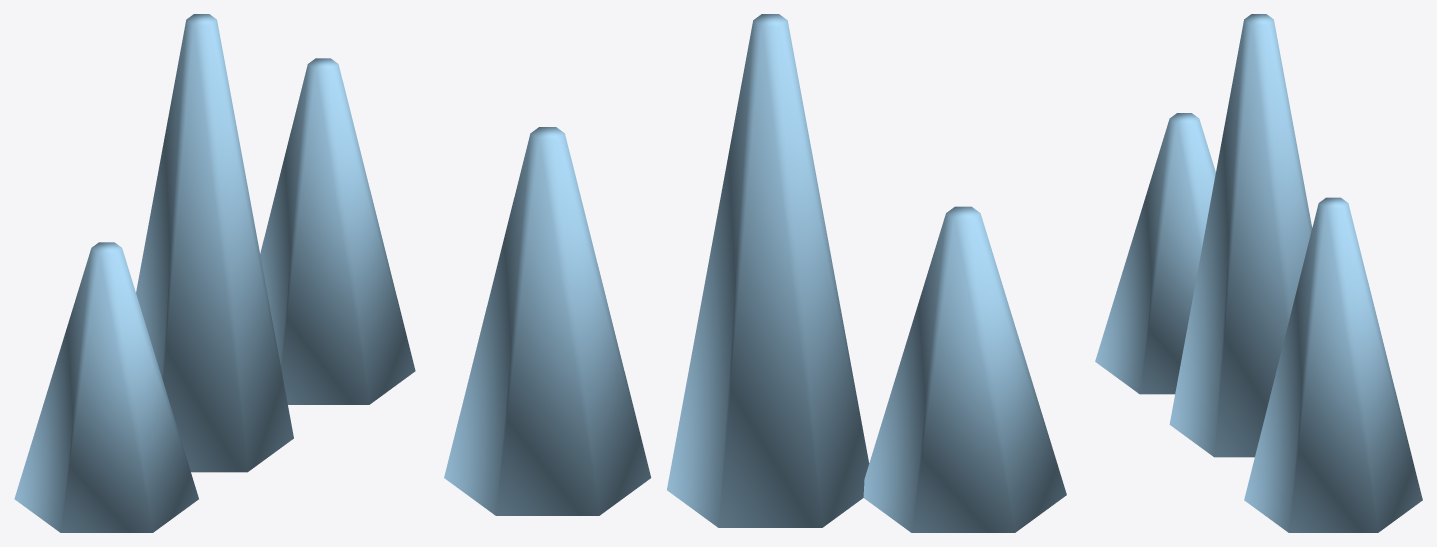
The model's file is gem_cluster.glb.
The picture shows the model from 3 angles, left to right: view 1: azimuth 30°, elevation 25°; view 2: azimuth 150°, elevation 25°; view 3: azimuth 270°, elevation 25°; orthographic projection. The views are drawn at different scales.
Visible parts, largest first — view 1: gem_cluster; view 2: gem_cluster; view 3: gem_cluster.
Part boxes in pixels (x1,y1,x2,y2): gem_cluster: (14,14,415,532); gem_cluster: (444,14,1066,532); gem_cluster: (1095,14,1422,532).
Bounding box in the file's own units: 0.3239 × 0.3 × 0.22.
